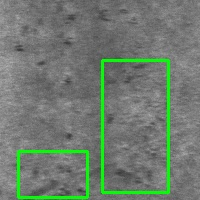rolled-in_scale: (102, 60, 168, 192), (18, 151, 87, 197)
